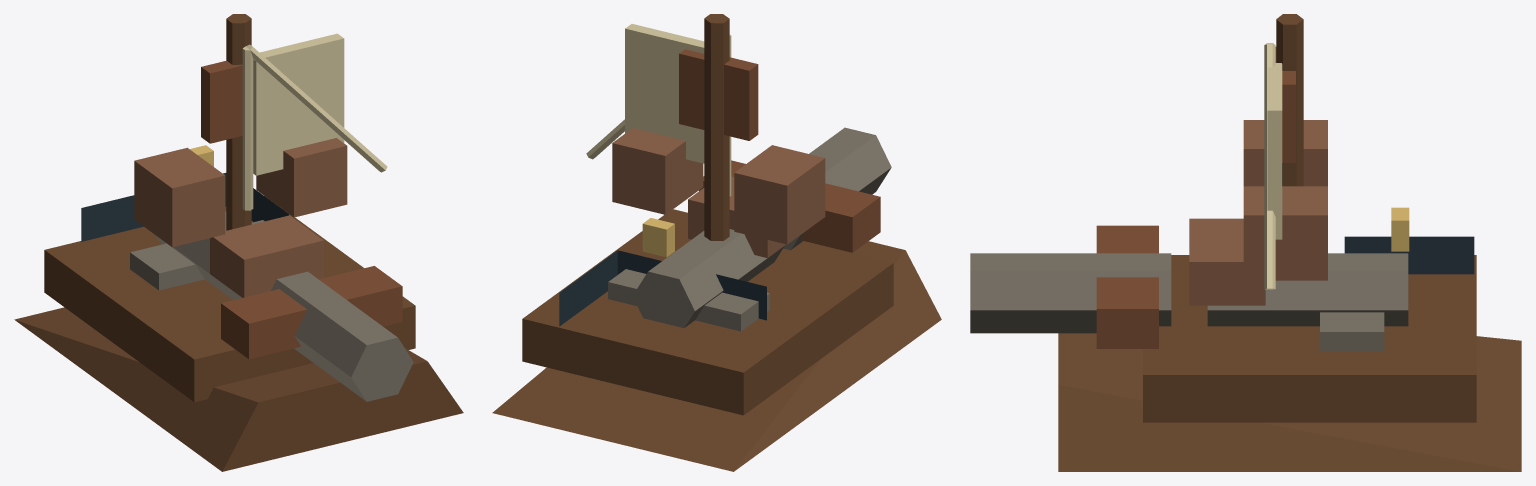
The model's file is heavy-warship.obj.
3 renders of one model, left to right at view 1: azimuth 30°, elevation 25°; view 2: azimuth 150°, elevation 25°; view 3: azimuth 270°, elevation 25°, orthographic. The views are drawn at different scales.
Visible parts, largest first — view 1: ship; view 2: ship; view 3: ship.
Part boxes in pixels (box(x1,y1,x2,y2)): ship: box(14, 14, 463, 471); ship: box(492, 14, 941, 471); ship: box(970, 14, 1521, 471).
Bounding box in the file's own units: 1.66 × 2.13 × 2.74.
